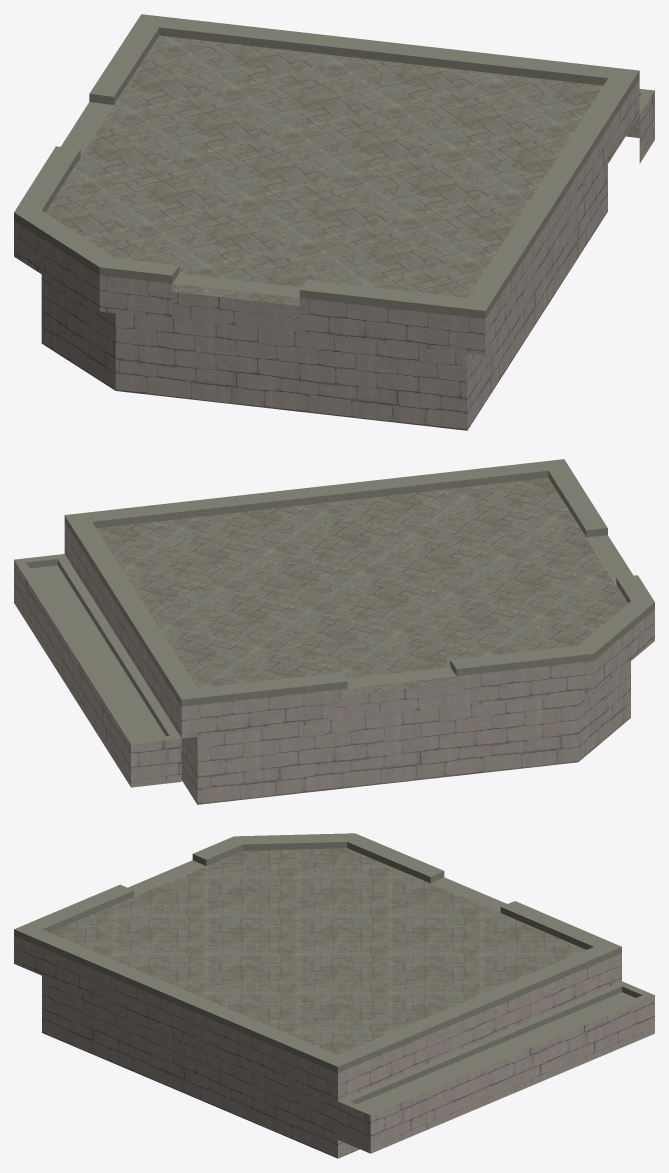
The model's file is AD_Ground_G_01.fbx.
3 renders of one model, top to bottom at view 1: azimuth 30°, elevation 25°; view 2: azimuth 150°, elevation 25°; view 3: azimuth 270°, elevation 25°, orthographic. The views are drawn at different scales.
Parts seen in each view (by area): view 1: AD_Ground_G_01; view 2: AD_Ground_G_01; view 3: AD_Ground_G_01.
Part boxes in pixels (bbox=[...]): AD_Ground_G_01: bbox=[14, 14, 654, 430]; AD_Ground_G_01: bbox=[14, 459, 654, 804]; AD_Ground_G_01: bbox=[14, 833, 654, 1158].
Bounding box in the file's own units: 6386 × 1247 × 6988.
3 materials, 3 textured.
